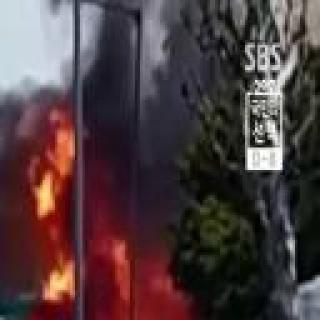fire: (21, 258, 183, 320), (35, 124, 79, 243)
